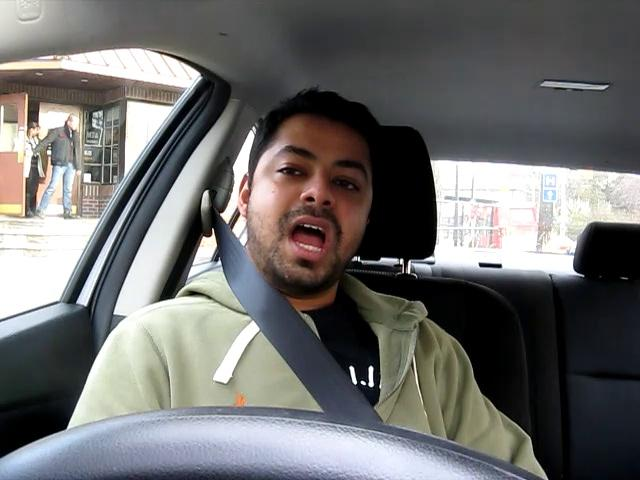close_eyeL: (261, 157, 316, 189)
close_eyeR: (318, 168, 379, 200)
yawn: (266, 210, 356, 265)
